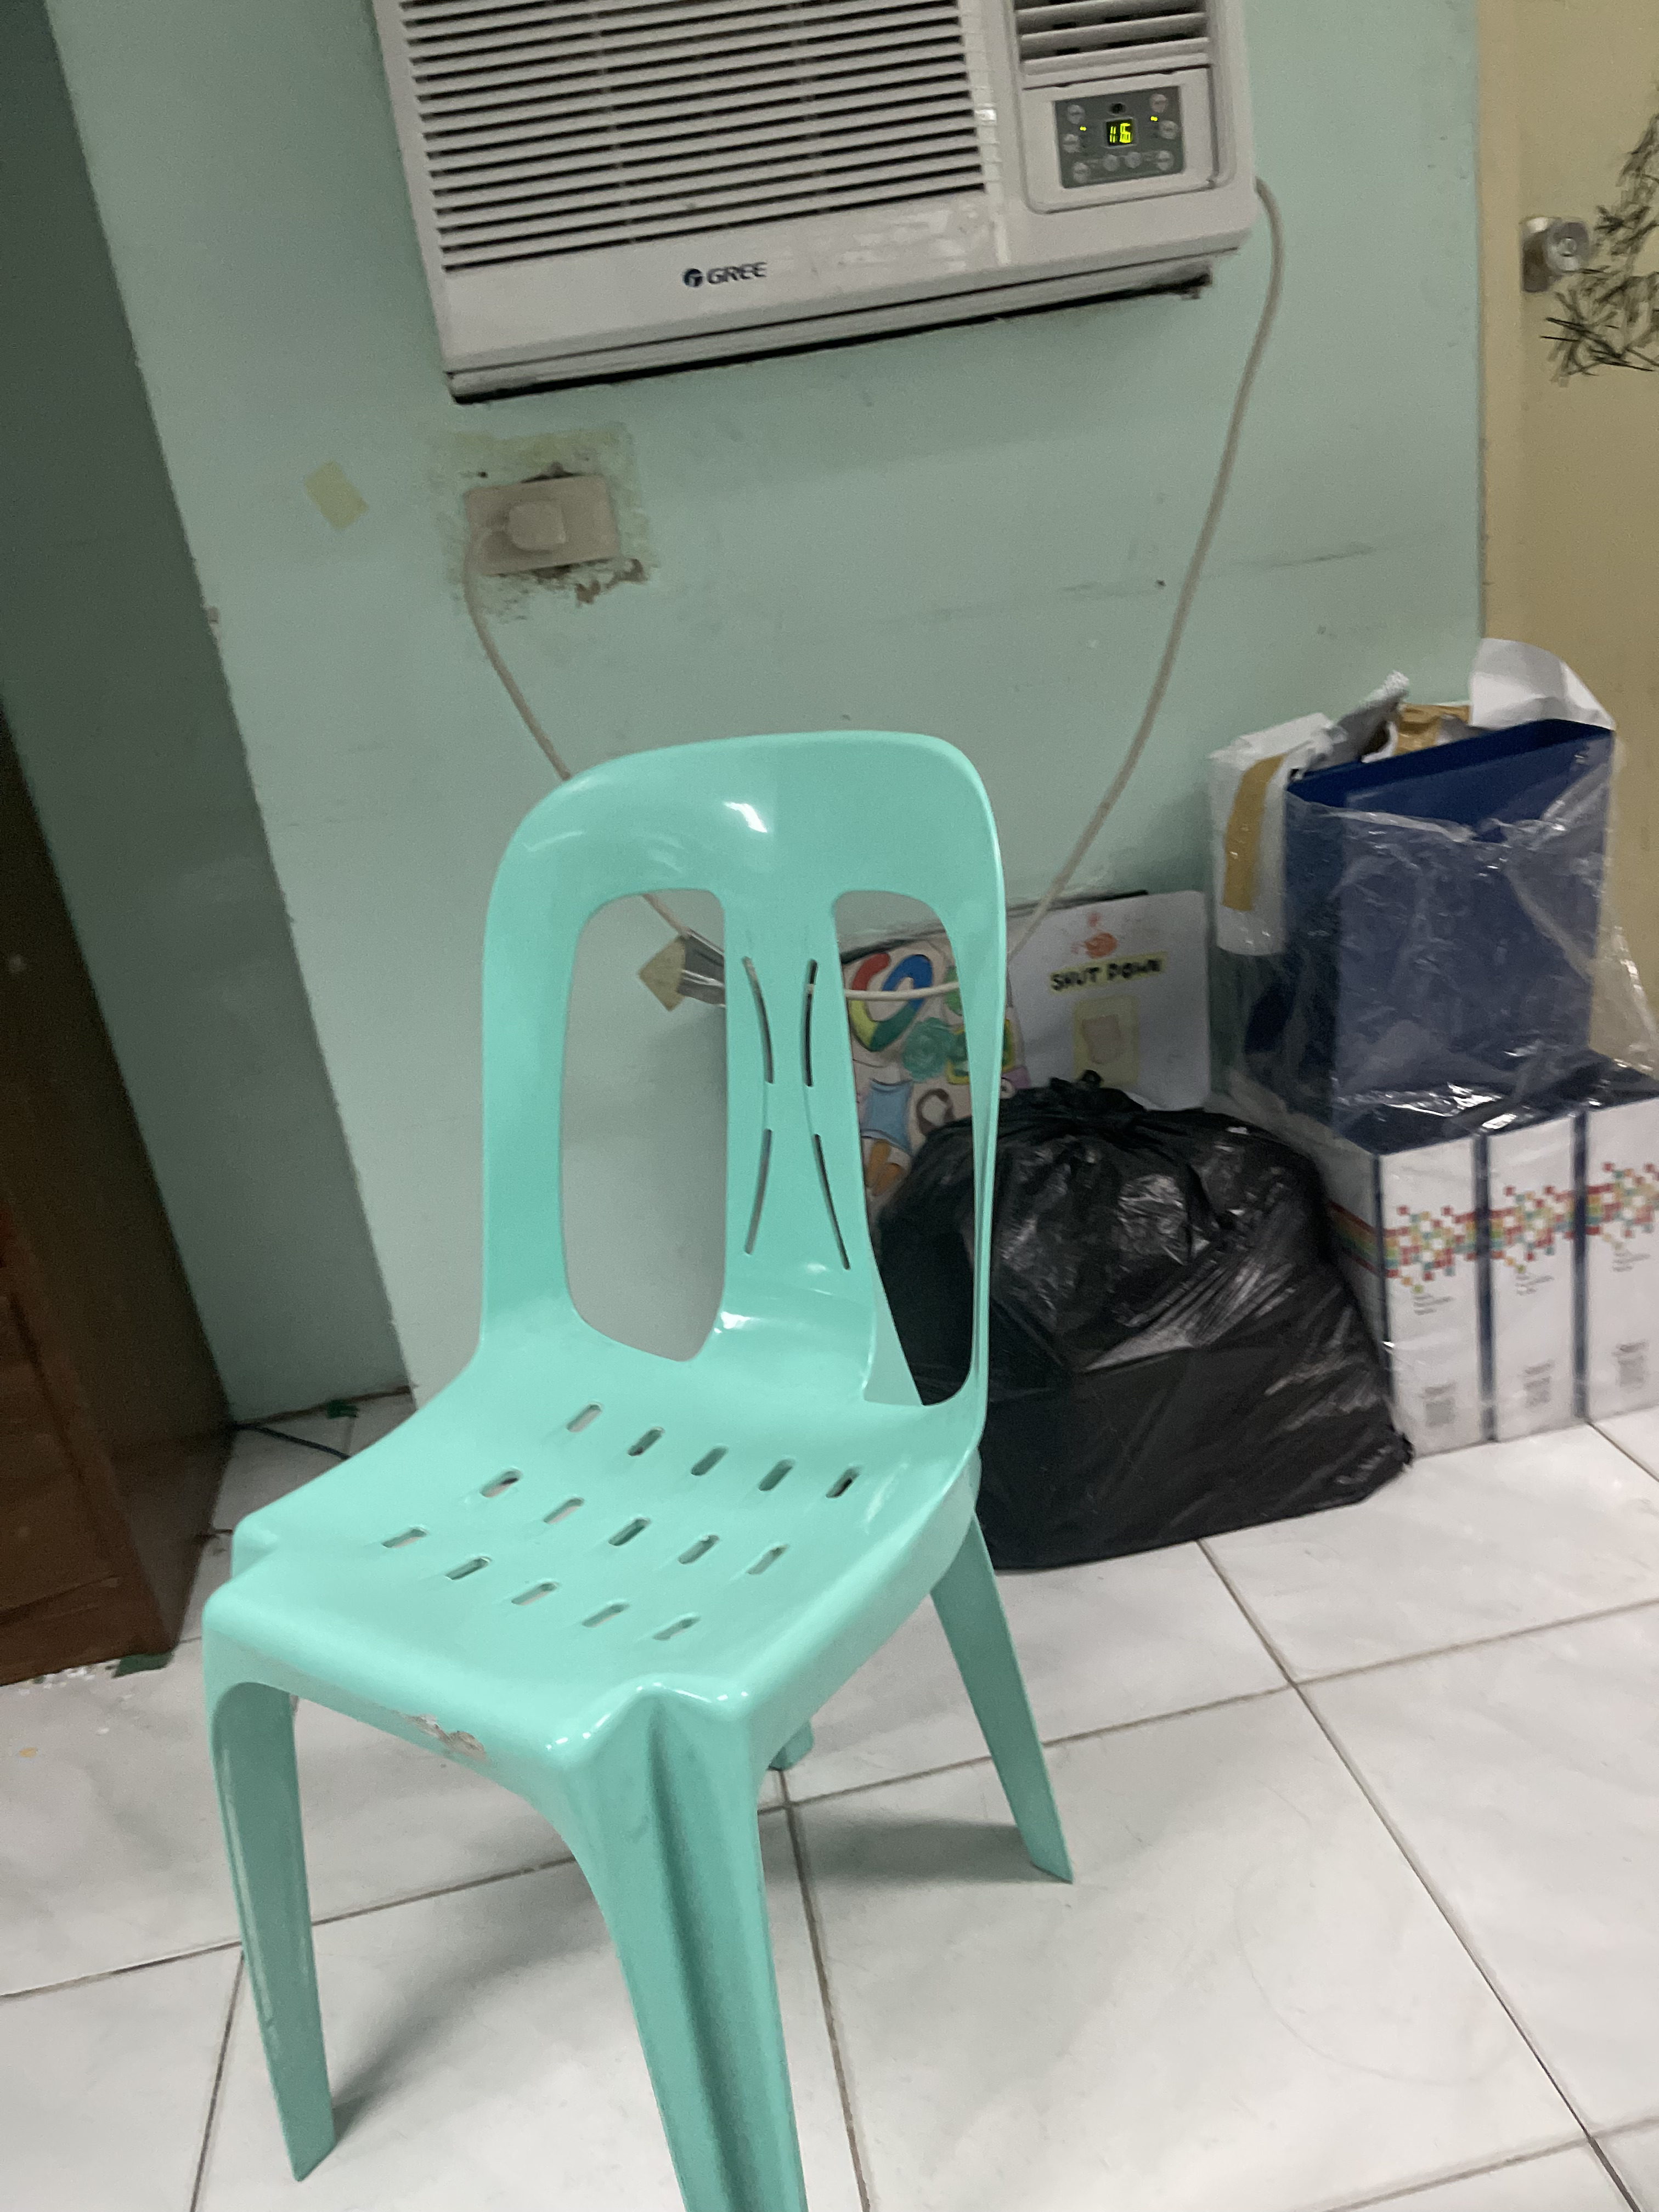chair2: (190, 711, 1084, 2212)
